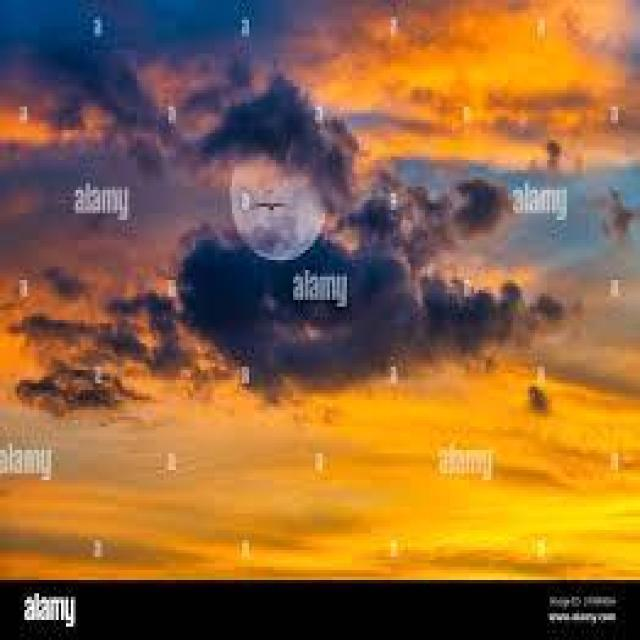bird: (255, 198, 287, 214)
